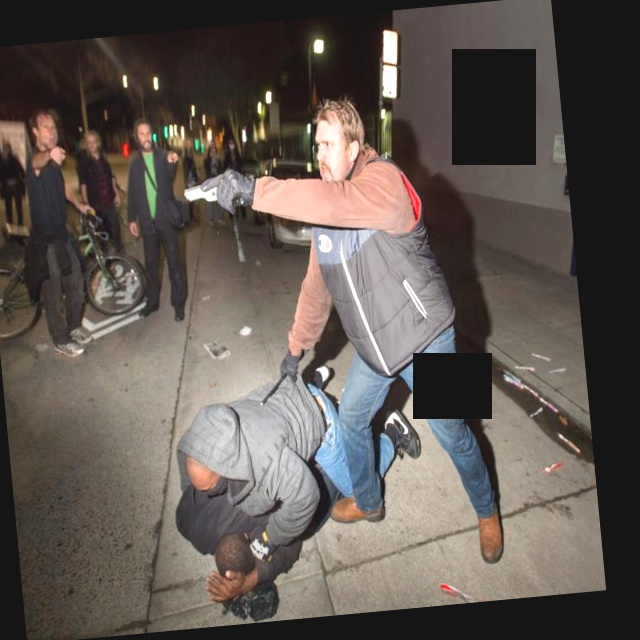gun: (175, 148, 256, 234)
